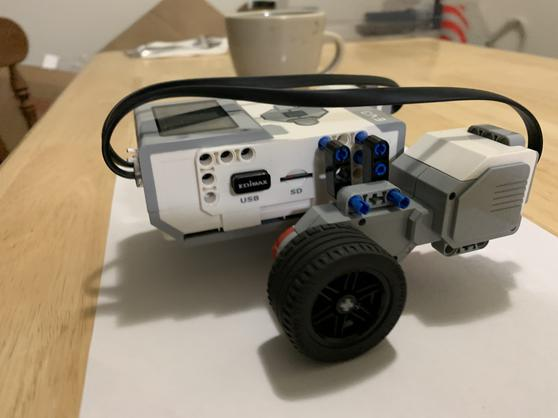robot: (101, 73, 547, 361)
